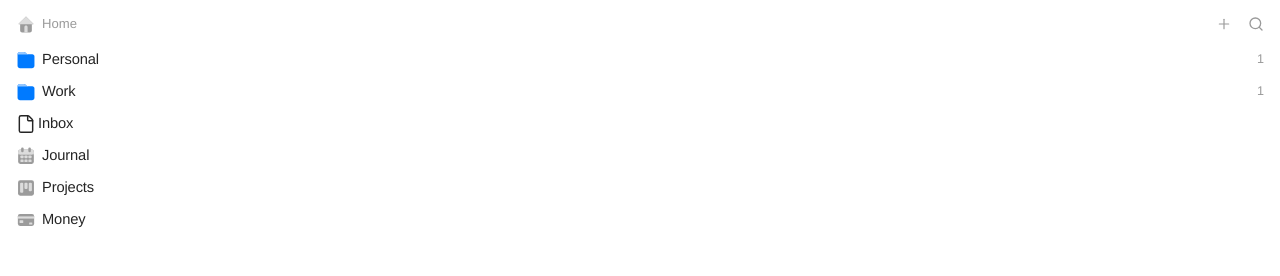
FolderSourceList › keeps folders in the rail and puts Journal, Projects, and Money under them
expect the button "Home" is shown: met, box [8,8,1208,40]
expect the button named "New" is shown: met, box [1208,8,1240,40]
Click the button named "Search folders": (1256, 24) [1240,8,1272,40]
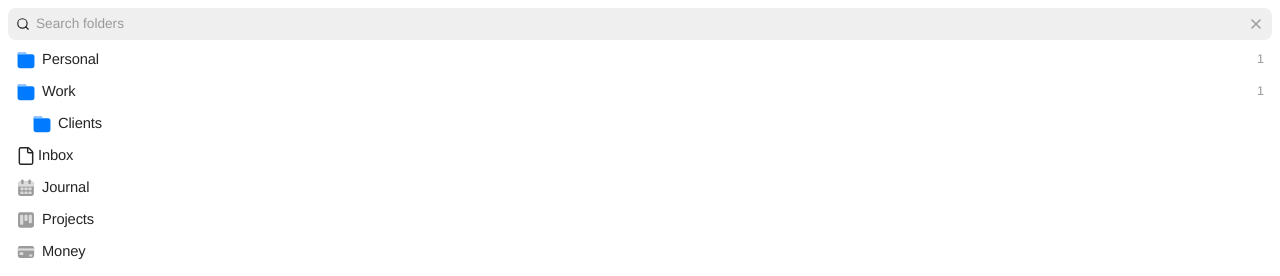
In the field labelled "Search folders": (638, 24) [36,14,1240,34], type "pers"
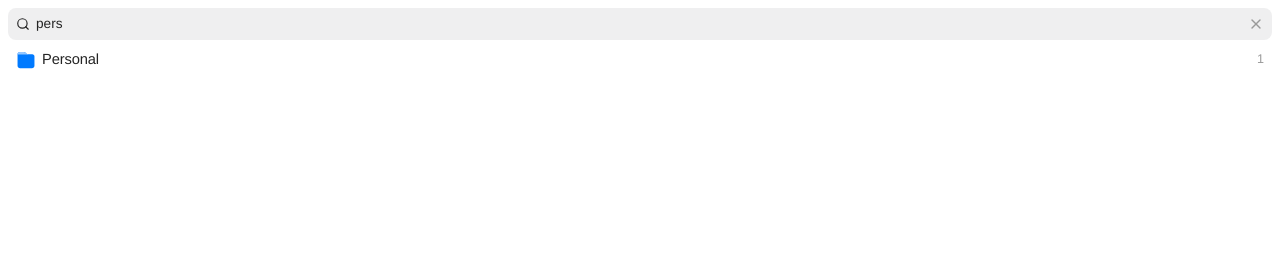
expect the text "Personal" is shown: met, box [42,50,99,67]
expect the button "Work" is gone: met
expect the button "Projects" is gone: met
